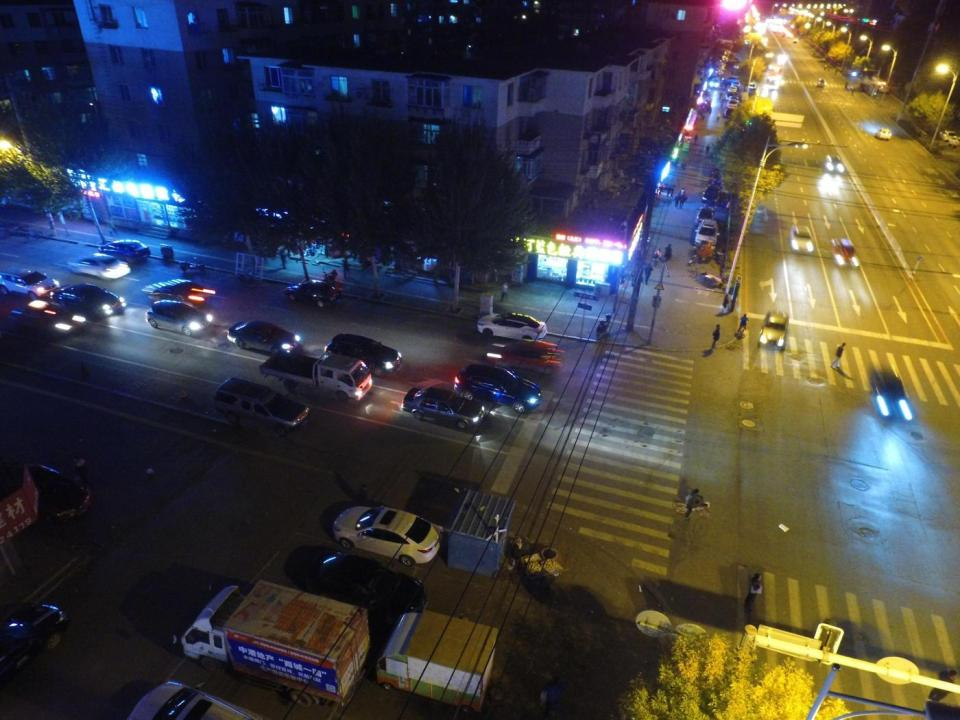car: (320, 544, 434, 622), (333, 506, 443, 567), (0, 459, 91, 532), (0, 599, 69, 673), (404, 383, 484, 432), (452, 368, 539, 412), (323, 333, 402, 373), (10, 299, 87, 339), (47, 284, 124, 319), (486, 337, 560, 372), (144, 301, 213, 338), (228, 318, 296, 355), (871, 370, 914, 424), (476, 312, 546, 344), (147, 280, 214, 311), (0, 266, 60, 300), (66, 250, 129, 282), (284, 280, 338, 310), (759, 308, 790, 350), (96, 238, 146, 264), (830, 235, 857, 269), (791, 223, 815, 254), (693, 219, 720, 245), (822, 152, 844, 176), (694, 206, 715, 229), (702, 183, 724, 204), (940, 129, 960, 142), (874, 78, 890, 93), (876, 126, 890, 140), (723, 107, 737, 118), (727, 100, 738, 110), (710, 77, 720, 88), (729, 96, 739, 106), (746, 82, 756, 92), (816, 78, 825, 89), (729, 86, 738, 97), (725, 92, 735, 101), (730, 81, 740, 90)
truck: (181, 581, 374, 708), (258, 352, 370, 404), (214, 378, 309, 437)
